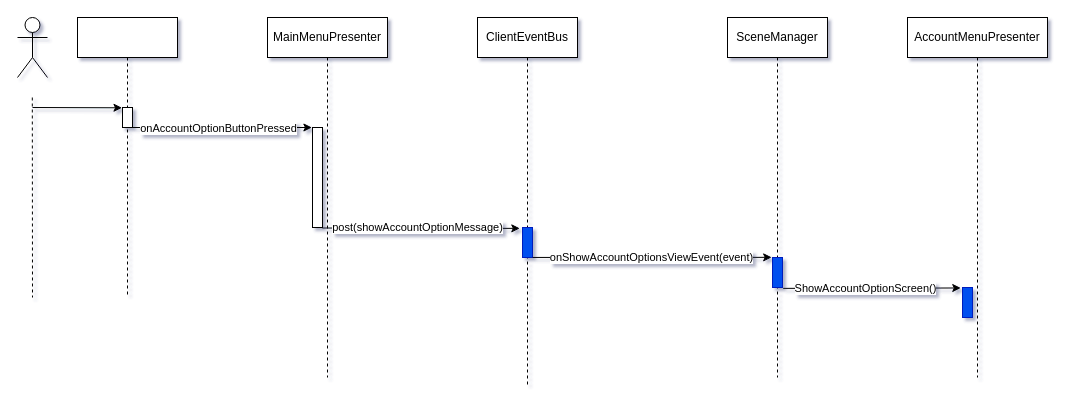
The diagram is 1071 pixels wide and 411 high, and some of its shapes have lost their labels. Each missing label, with the centre of its shape:
"MainMenuView" belongs at pixel 127 157.
"User" belongs at pixel 32 47.
